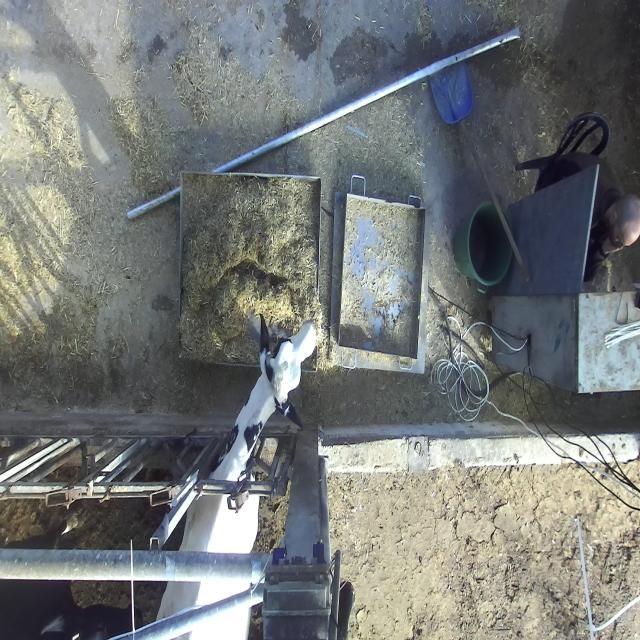cow: (256, 309, 320, 434)
